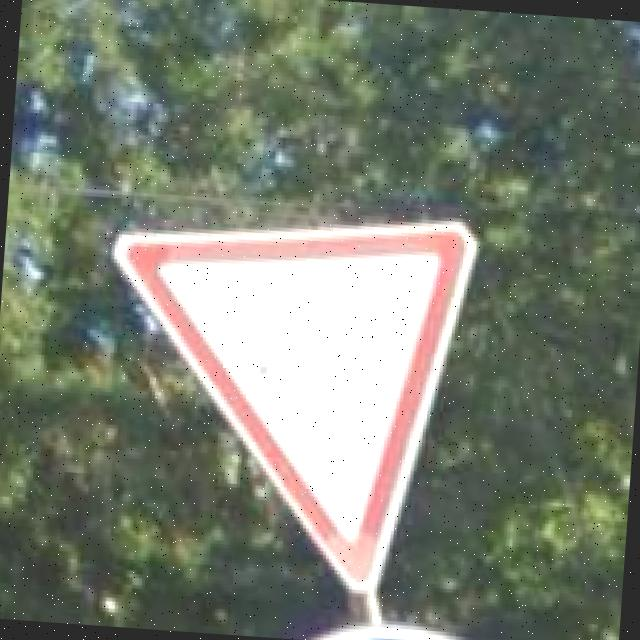Ustap pierwszenstwa: (88, 197, 481, 603)
